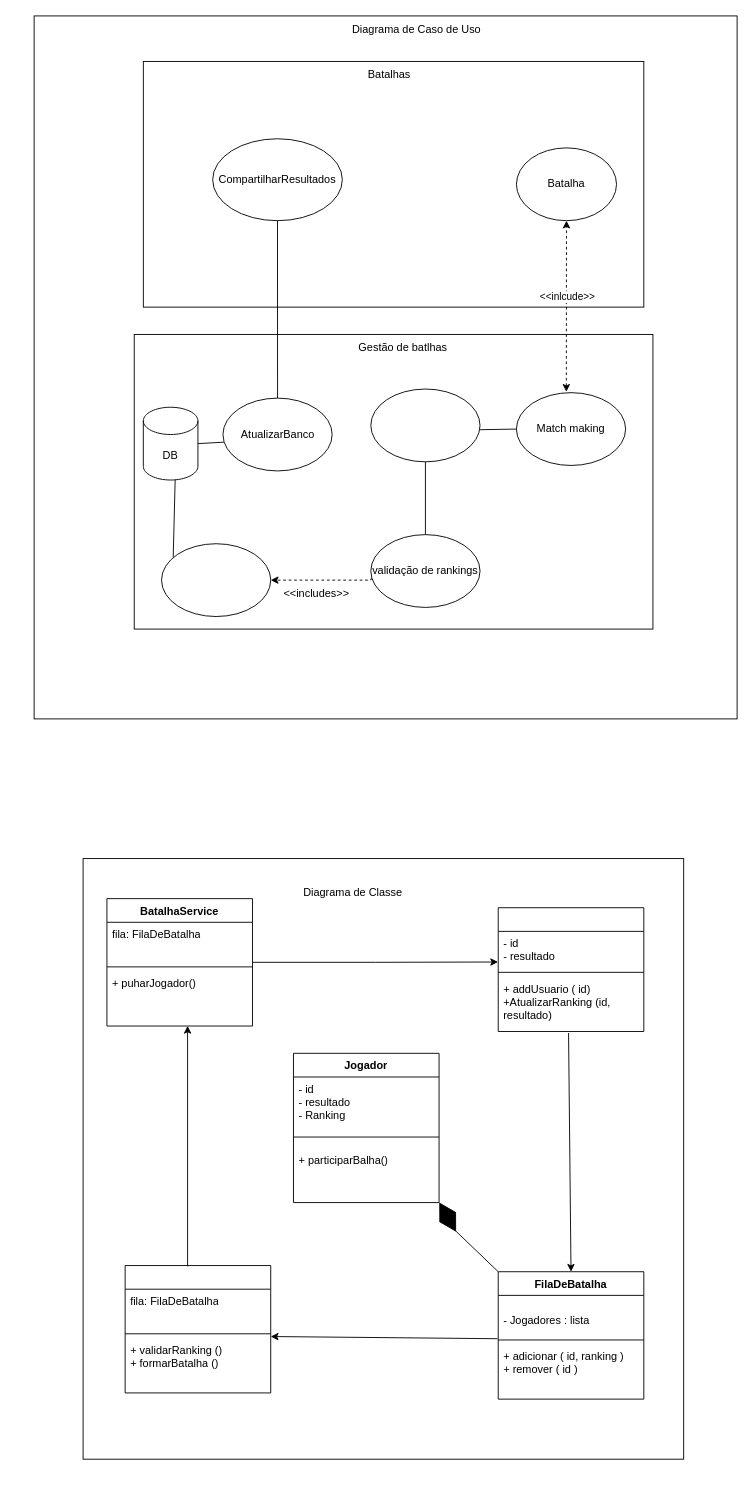
Some shapes in this 753 by 1497 pixel diagram are drawn without their labels. The box of each missing label's shape, as (x1, y1, x2, y2) in pixels:
gestão de filas: (370, 388, 480, 462)
GET USER INFORMATIONS: (161, 543, 271, 617)
MatchMaking: (124, 1265, 271, 1393)
RankingRepository: (497, 907, 644, 1031)
